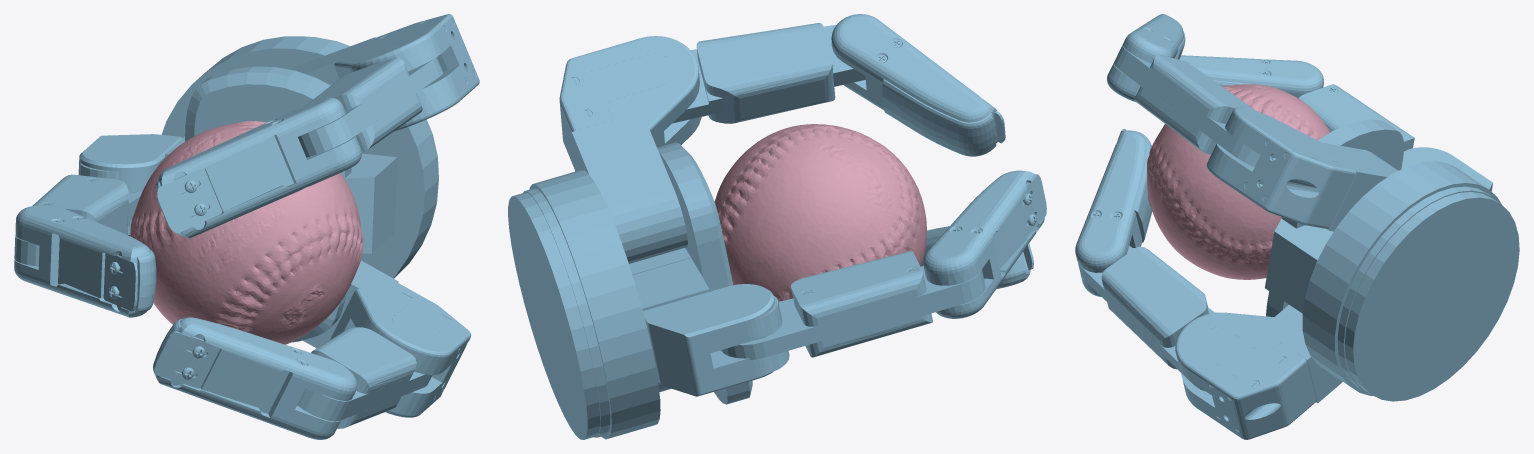
3 views of the same model, side by side, from view 1: azimuth 30°, elevation 25°; view 2: azimuth 150°, elevation 25°; view 3: azimuth 270°, elevation 25° (orthographic). The views are drawn at different scales.
Visible parts, largest first — view 1: world, baseball.stl; view 2: world, baseball.stl; view 3: world, baseball.stl.
Boxes of the visible parts, x1,y1,x2,y2 form: world: (14, 14, 479, 439); baseball.stl: (130, 121, 363, 344); world: (508, 14, 1046, 439); baseball.stl: (714, 124, 926, 301); world: (1075, 14, 1519, 439); baseball.stl: (1147, 84, 1330, 279).
Size of the model in its own units: 0.1682 by 0.1346 by 0.1638.
